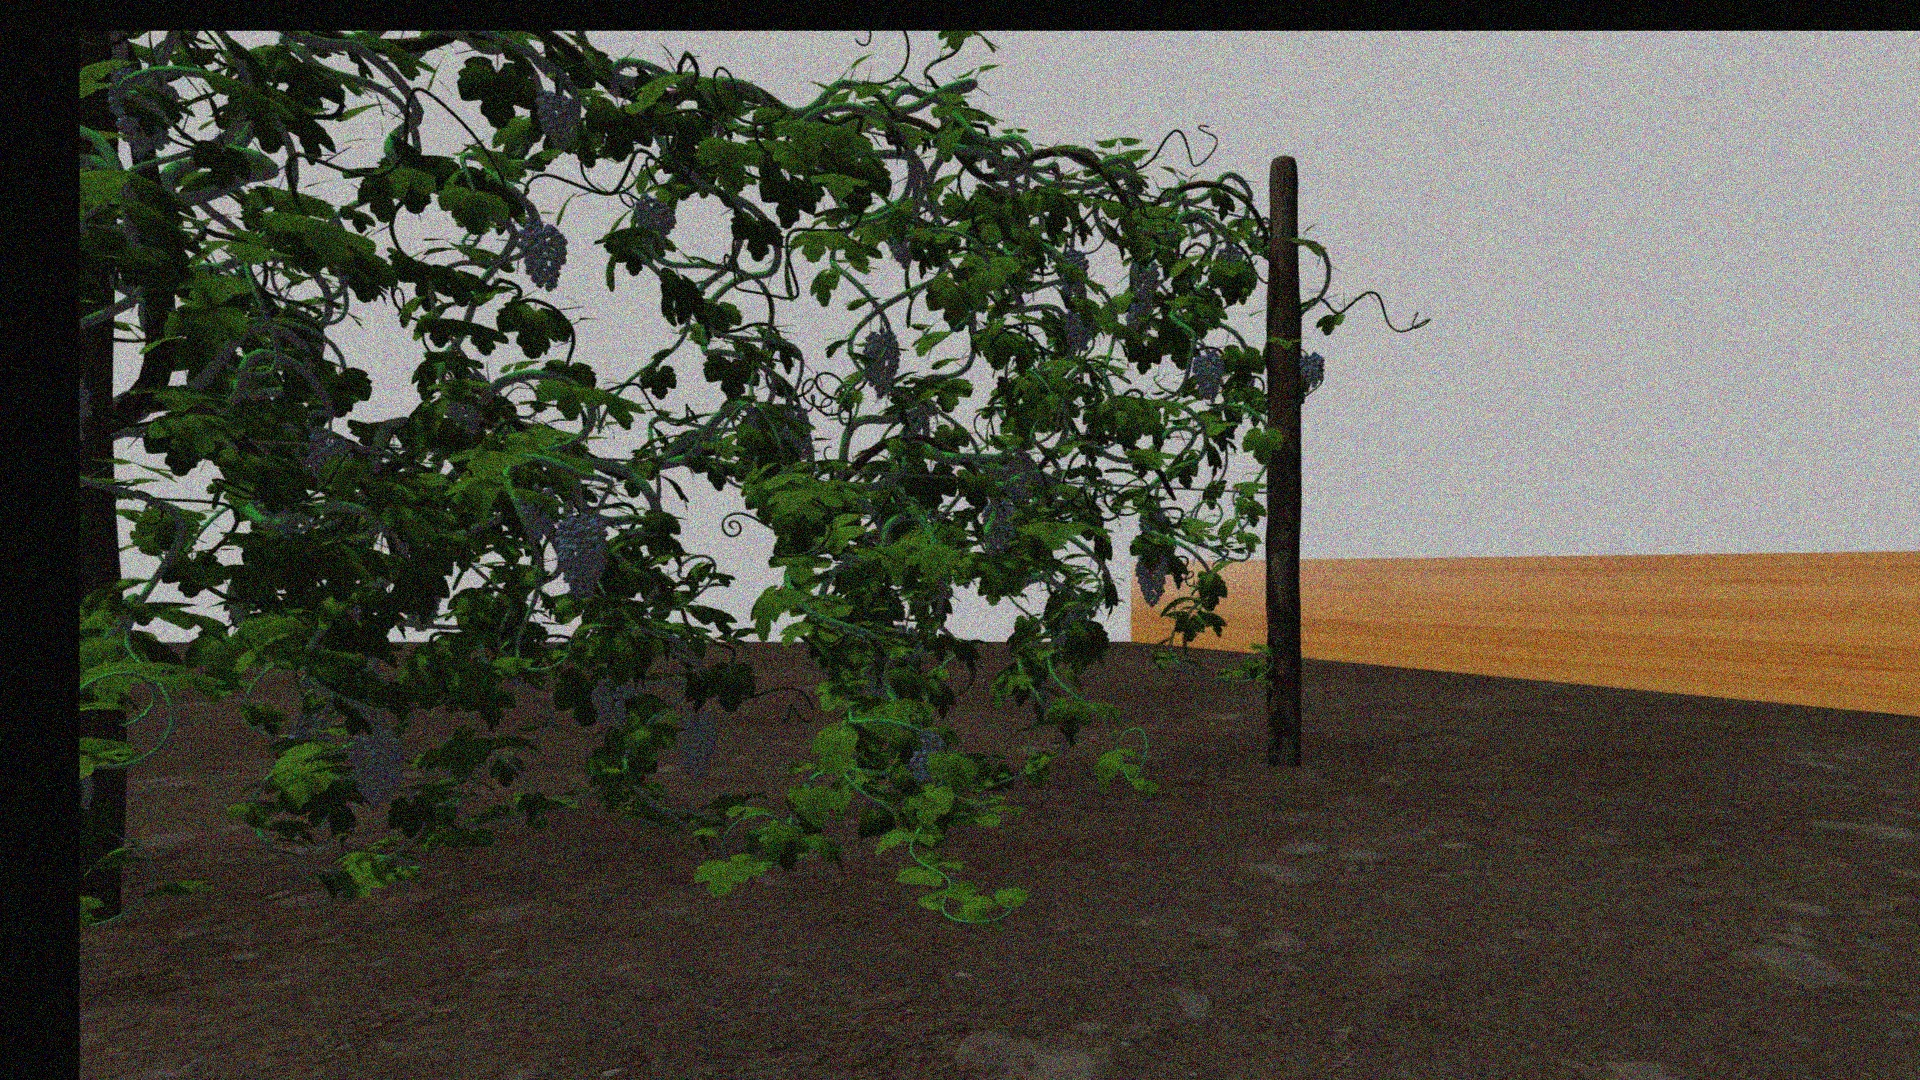grape: (105, 67, 179, 158), (553, 512, 611, 601), (345, 728, 405, 808), (516, 218, 567, 291), (673, 709, 717, 781), (858, 327, 899, 400), (589, 676, 636, 731), (534, 88, 575, 149), (909, 732, 945, 787), (1191, 347, 1224, 404), (1133, 553, 1167, 607), (981, 501, 1015, 553), (633, 196, 675, 236), (1002, 456, 1036, 502), (1127, 256, 1160, 295), (1062, 313, 1091, 352), (1298, 351, 1325, 386), (1124, 299, 1151, 334)
